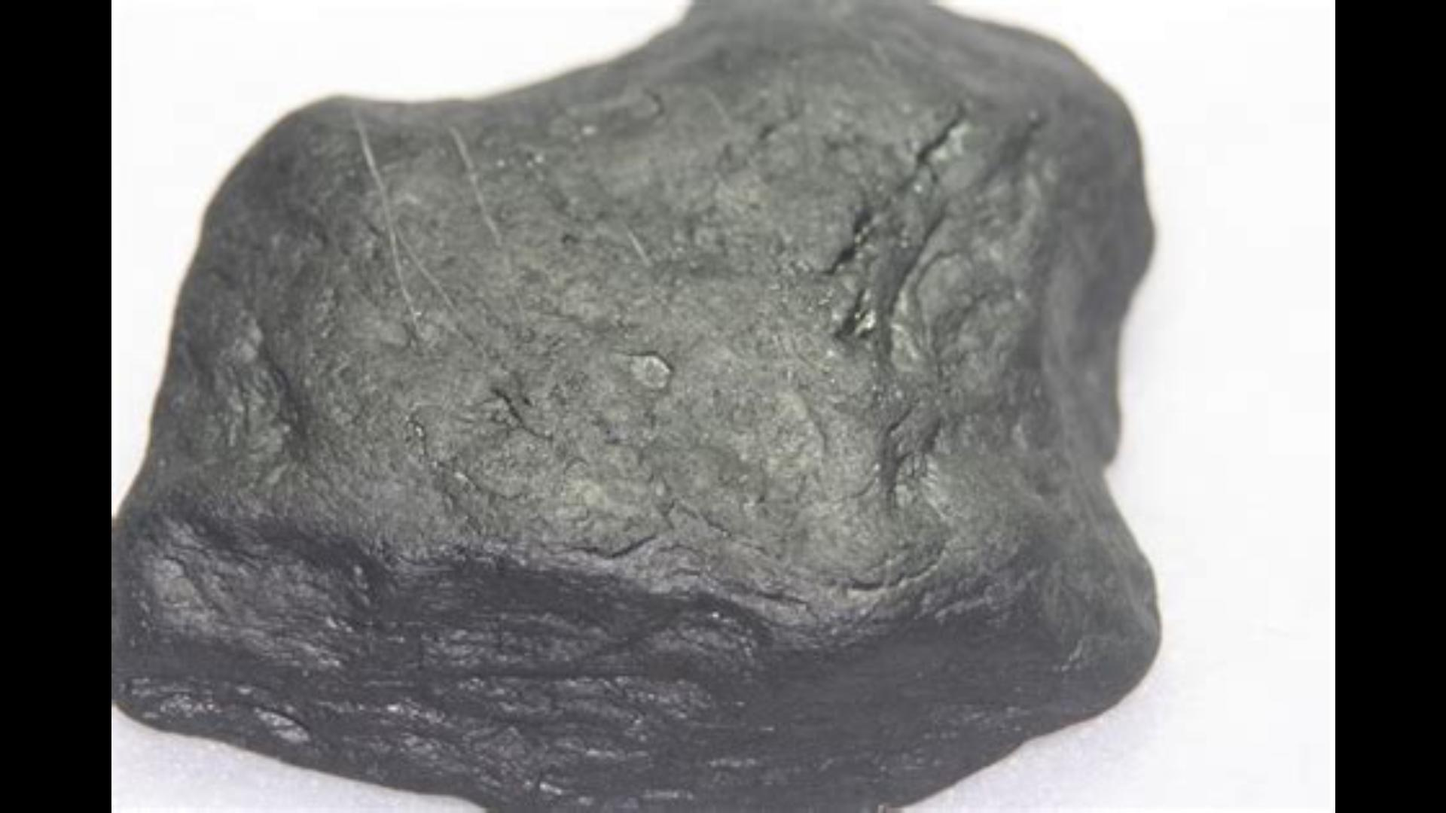rock: (113, 5, 1154, 810)
